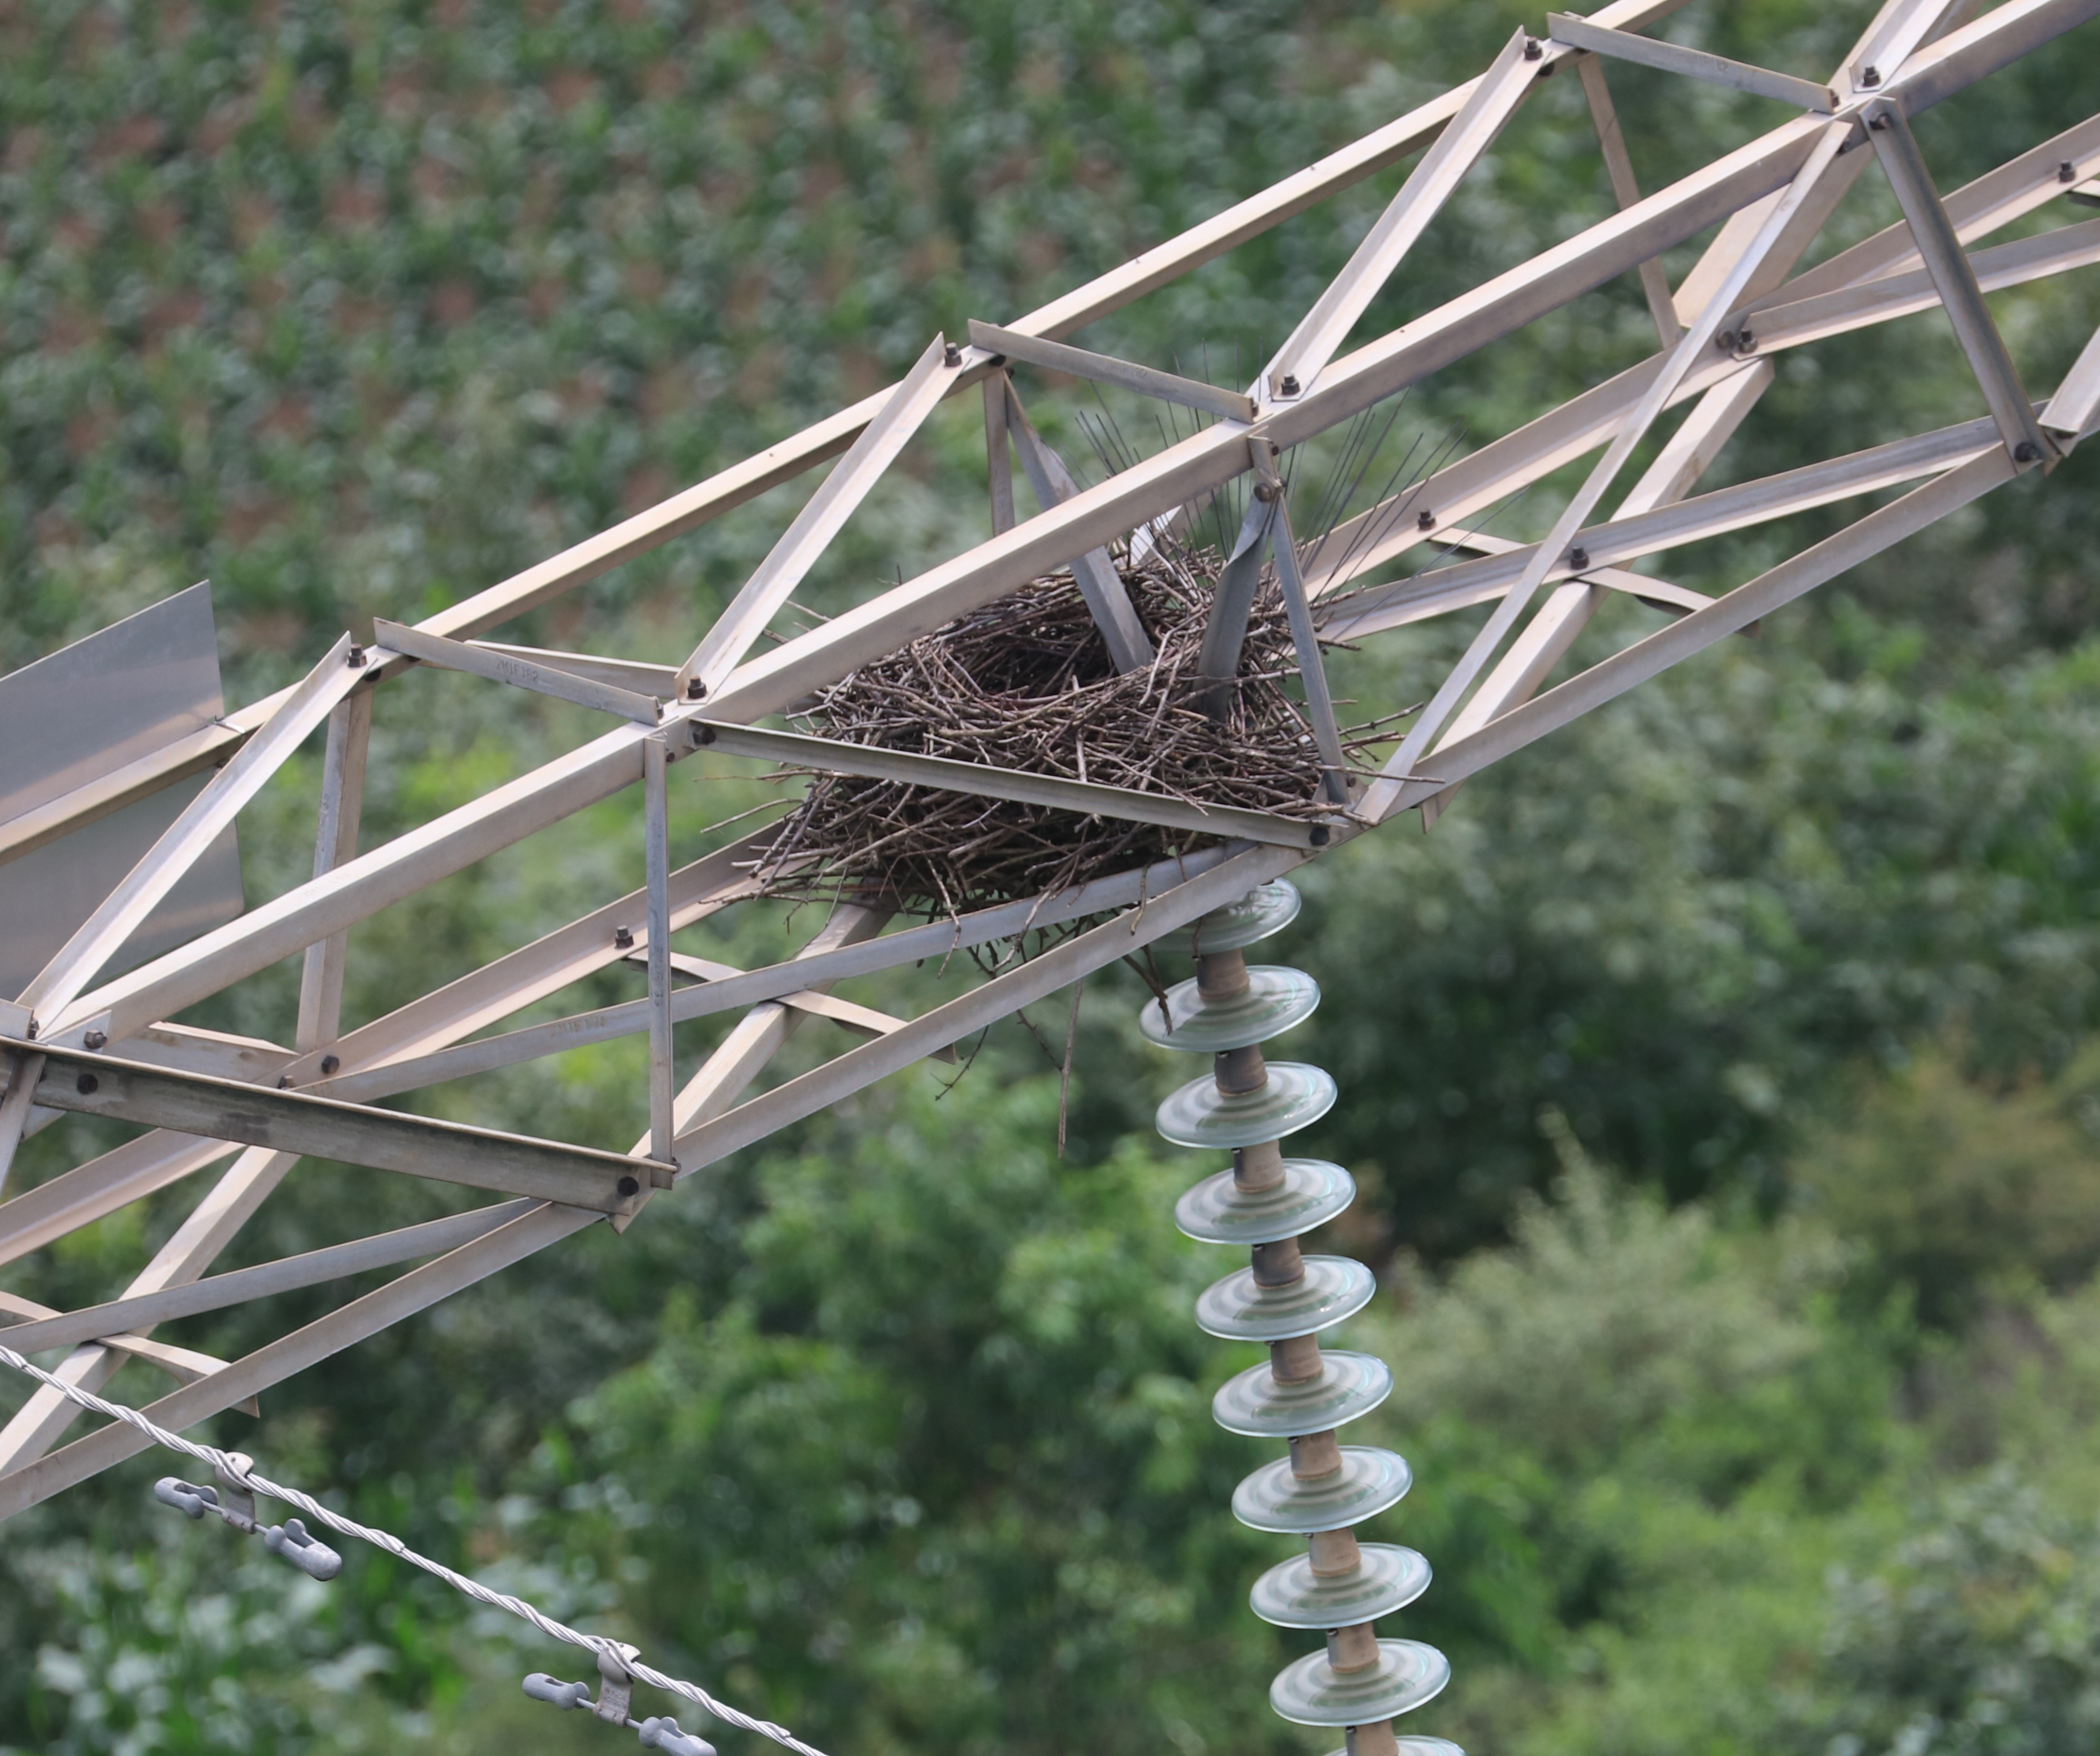niaowo: (760, 520, 1402, 968)
